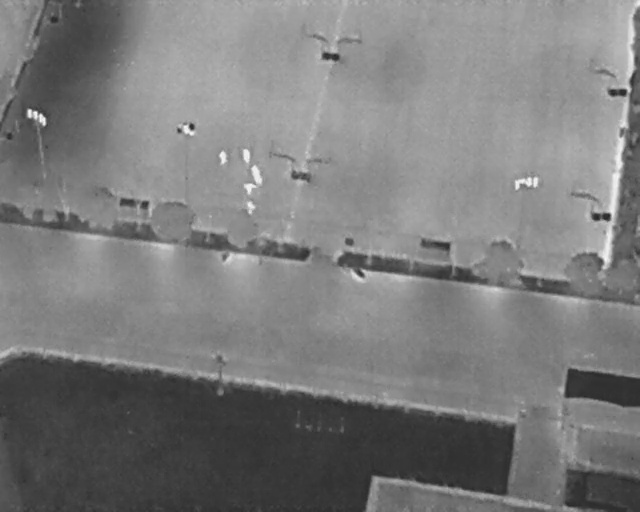Person: (244, 182, 257, 195), (242, 147, 251, 165), (218, 149, 228, 165), (246, 200, 255, 216), (251, 164, 259, 179), (255, 174, 262, 186)
